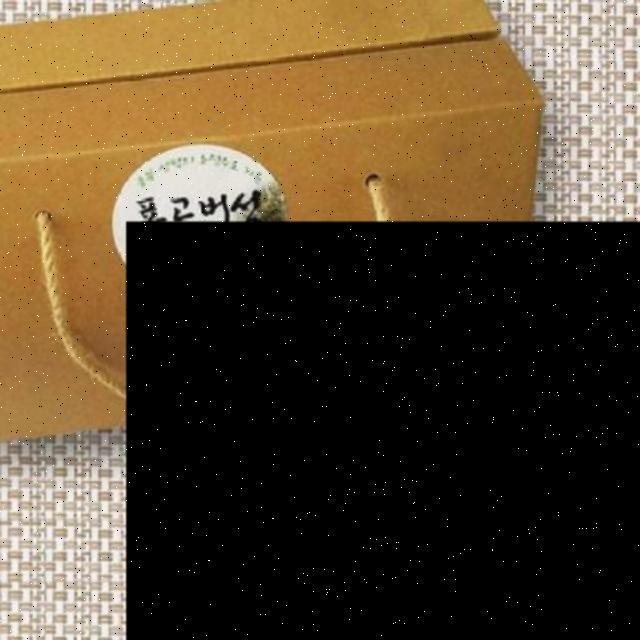Mushroom: (126, 222, 640, 640)
